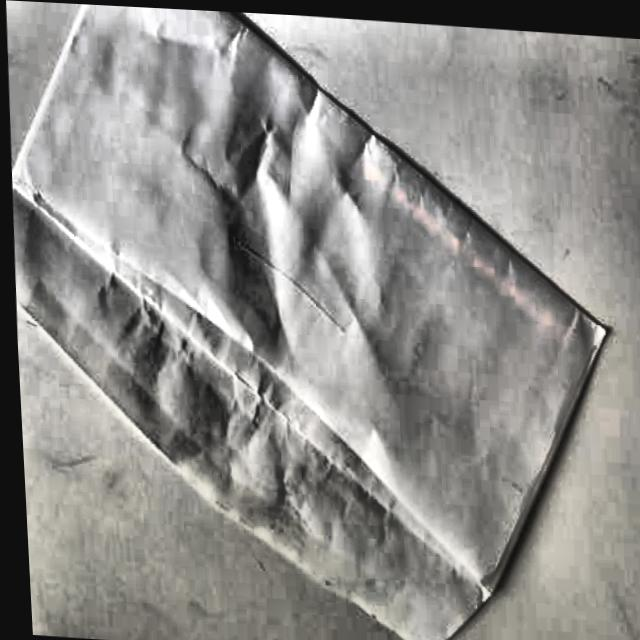Paper: (0, 0, 626, 640)
